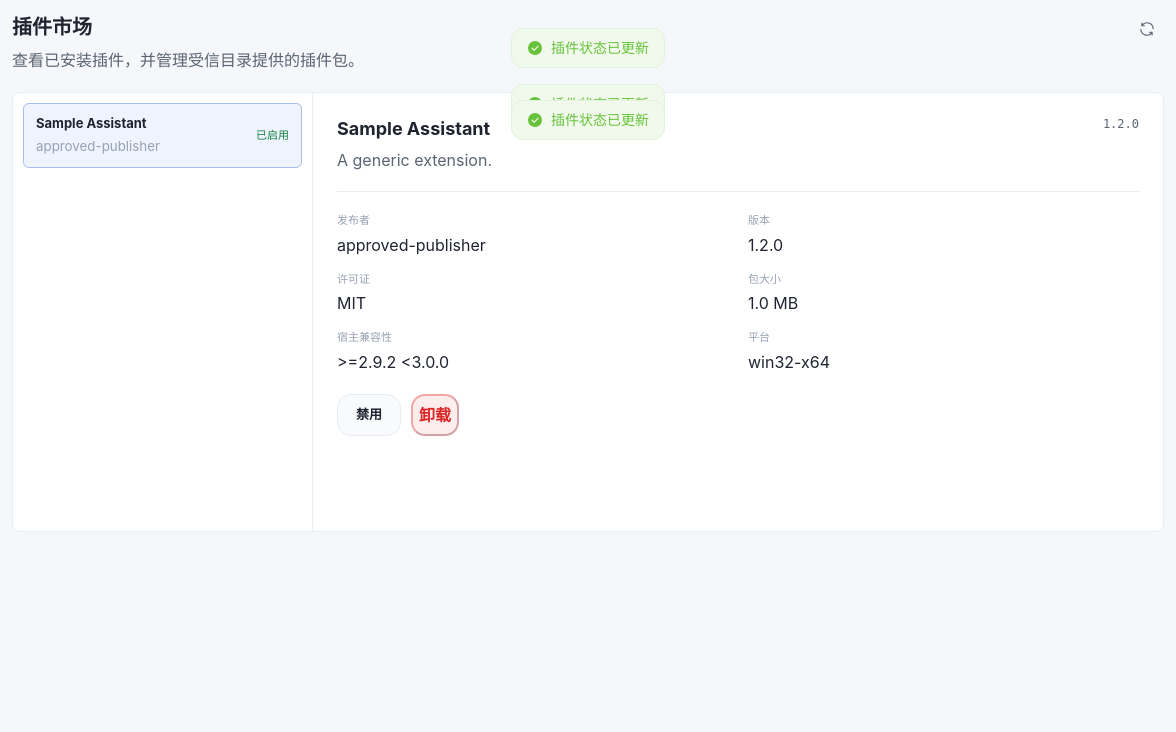
Test: MarketplaceSettingsPage › does not reload the host when uninstall fails
Click the button with class "danger-action" at [435, 415], box [411,394,459,436]
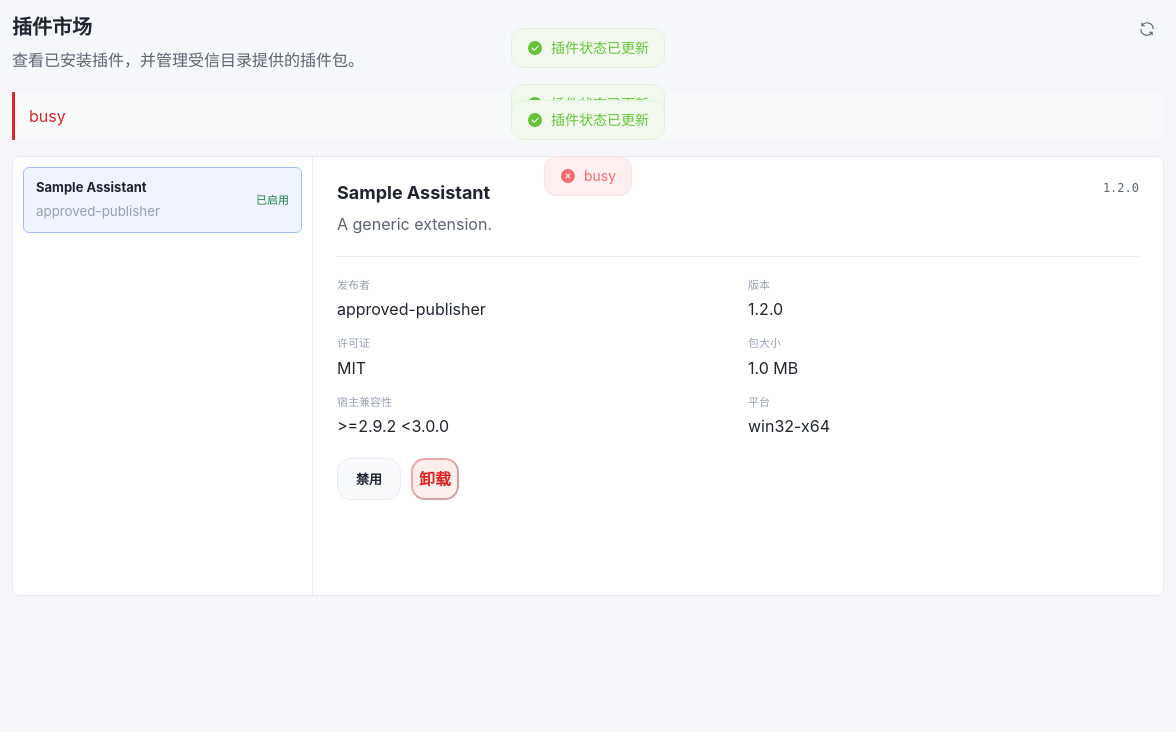
Check: the message with class "marketplace-error" is shown, box [12,92,1164,140]
